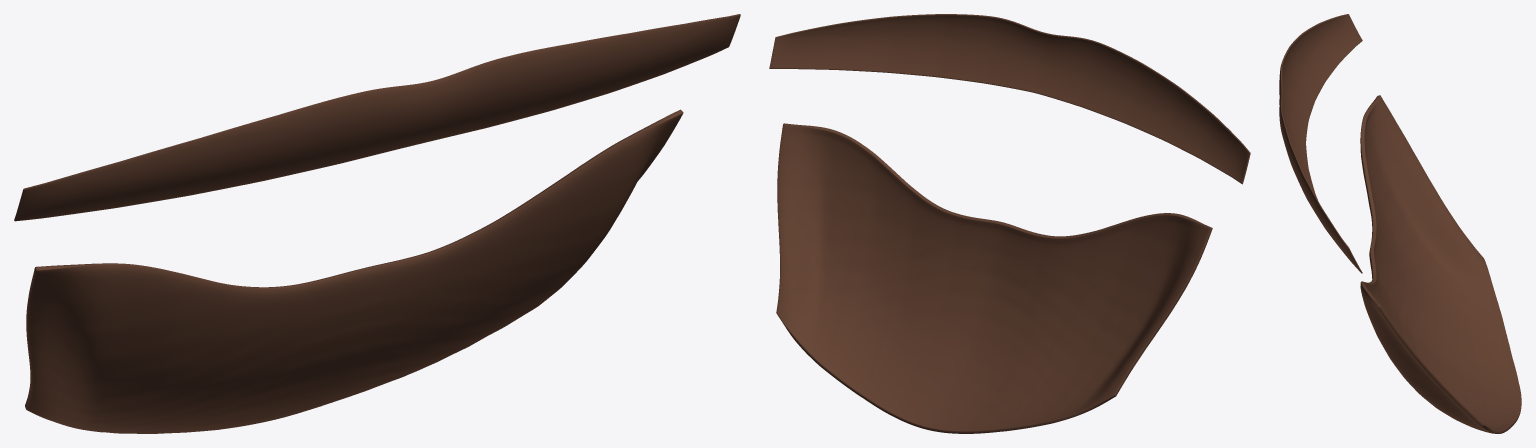
File: Masculine-Masculine-groom-goatee-39dc227c.glb
3 renders of one model, left to right at view 1: azimuth 30°, elevation 25°; view 2: azimuth 150°, elevation 25°; view 3: azimuth 270°, elevation 25°, orthographic. The views are drawn at different scales.
Parts seen in each view (by area): view 1: Groom / goatee body184, Groom / shared mustache208; view 2: Groom / goatee body184, Groom / shared mustache208; view 3: Groom / goatee body184, Groom / shared mustache208.
Part boxes in pixels (x1,y1,x2,y2): Groom / goatee body184: (25, 109, 683, 433); Groom / shared mustache208: (14, 14, 740, 221); Groom / goatee body184: (776, 123, 1212, 433); Groom / shared mustache208: (769, 14, 1250, 184); Groom / goatee body184: (1360, 95, 1521, 433); Groom / shared mustache208: (1279, 14, 1362, 273).
Size of the model in its own units: 0.2466 by 0.1556 by 0.1081.
